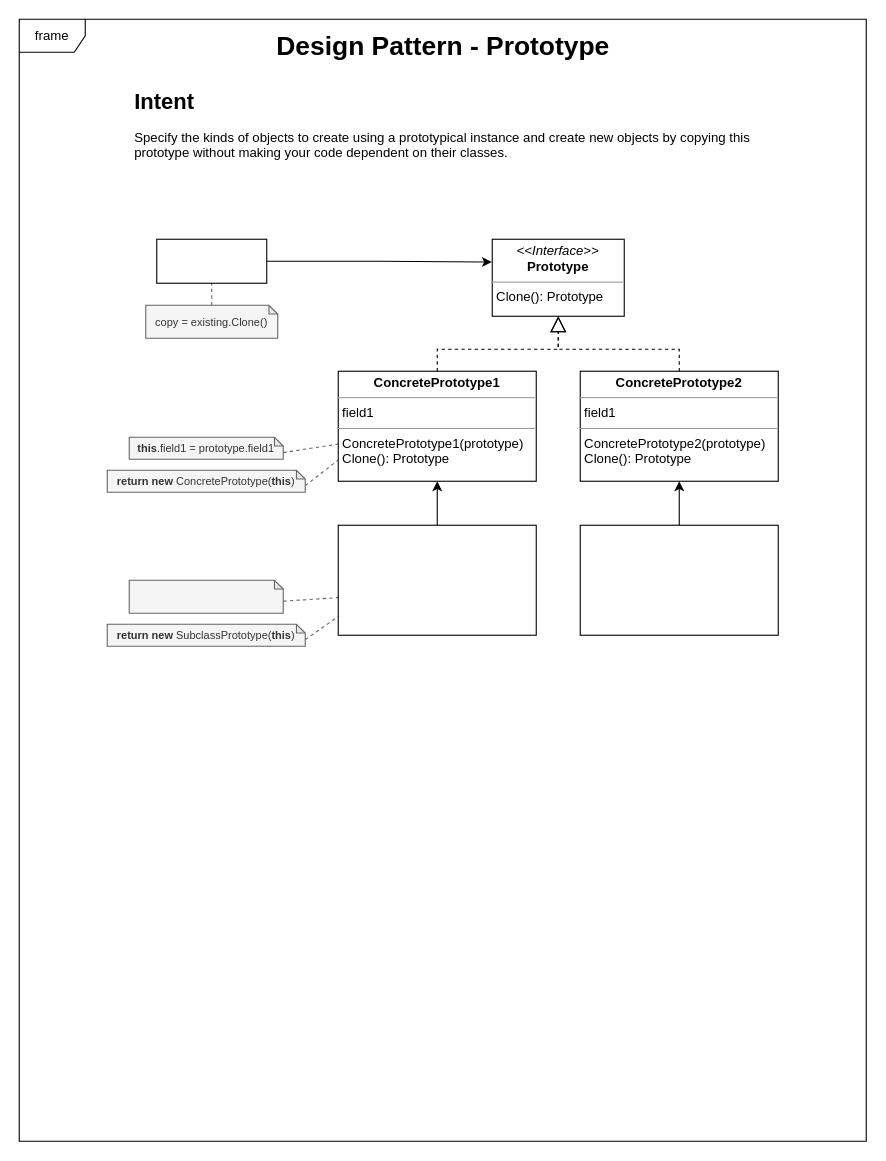
This 886x1161 diagram has some shape labels left out. The centre of each missing label's shape, as x and y in pixels:
"Client" belongs at (211,260).
"SubclassPrototype1 field2 SubclassPrototype1(prototype) Clone(): Prototype" belongs at (436,579).
"SubclassPrototype2 field2 SubclassPrototype2(prototype) Clone(): Prototype" belongs at (678,579).
"super (prototype) this .field2 = prototype.field2" belongs at (205,596).
